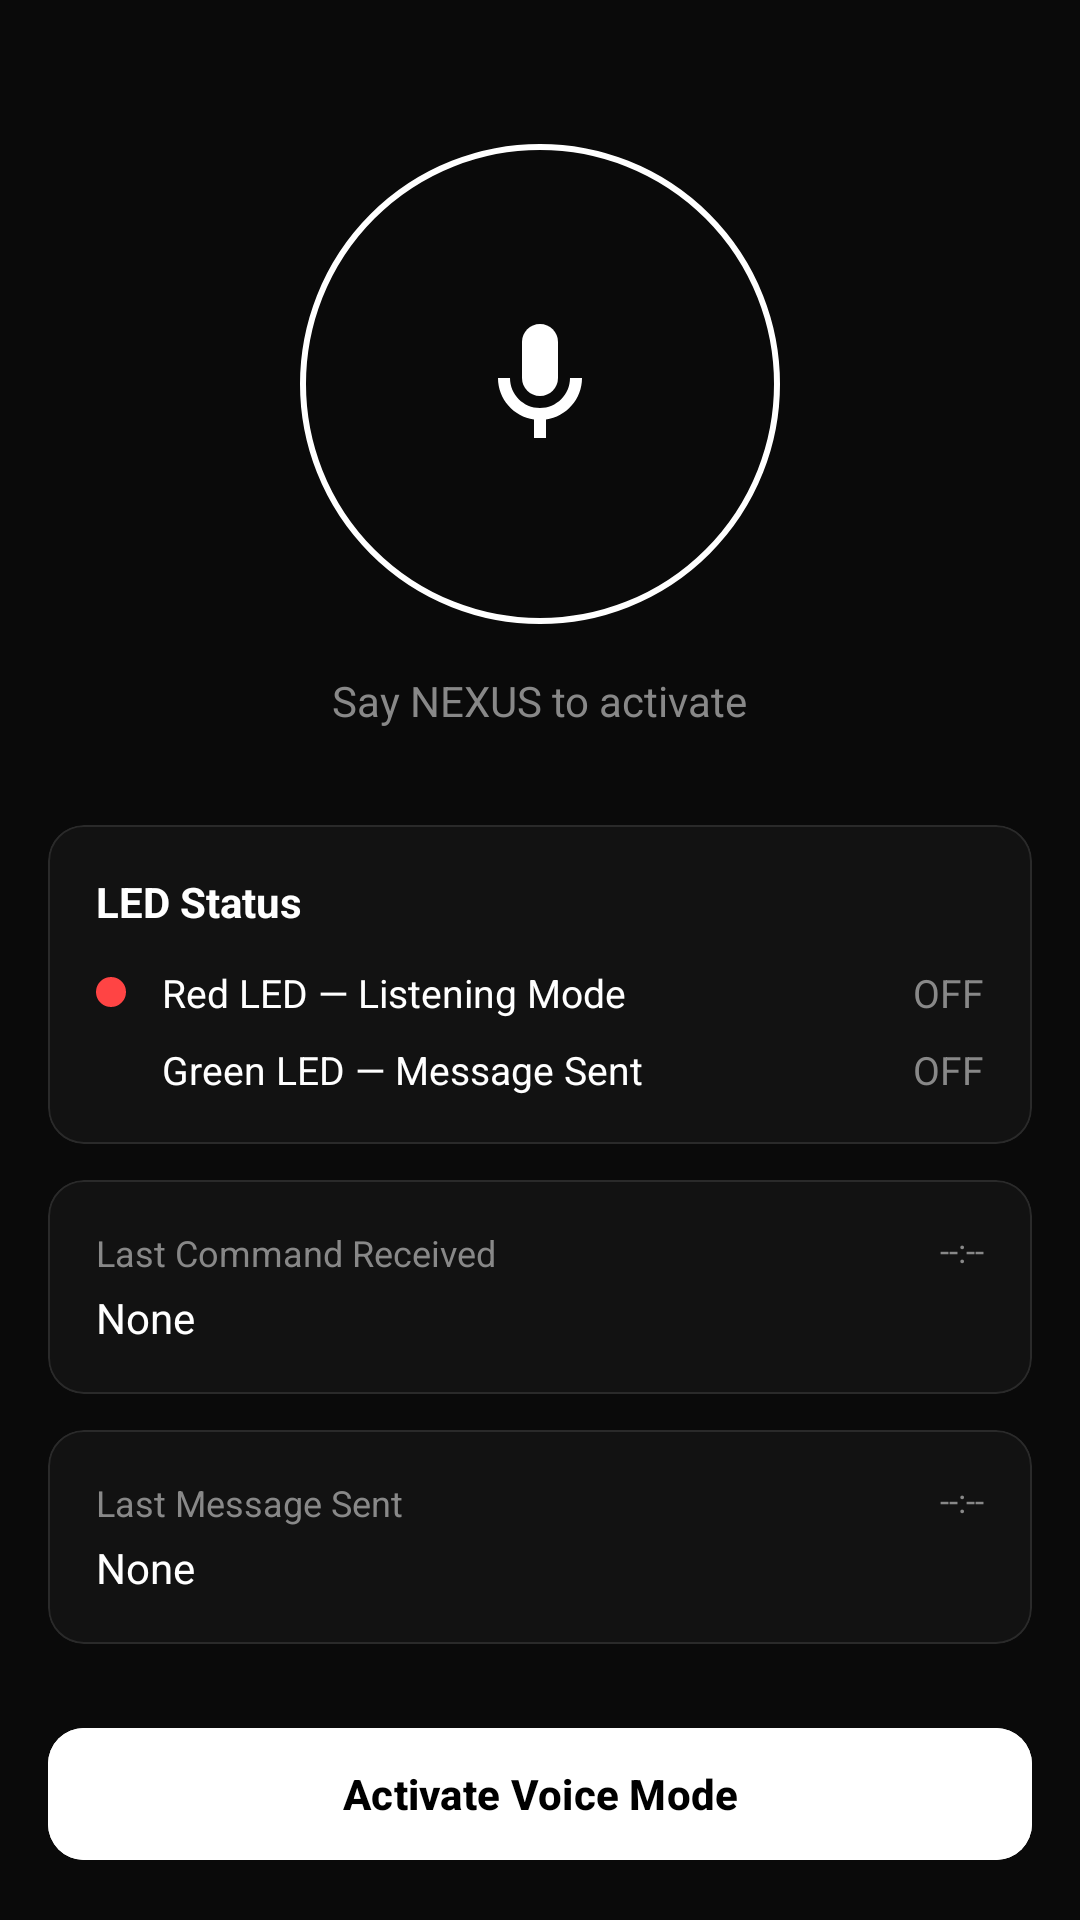

Screen size 1080px×1920px. Icon name, then its center in pixels as (x,y):
mic: (540,381)
